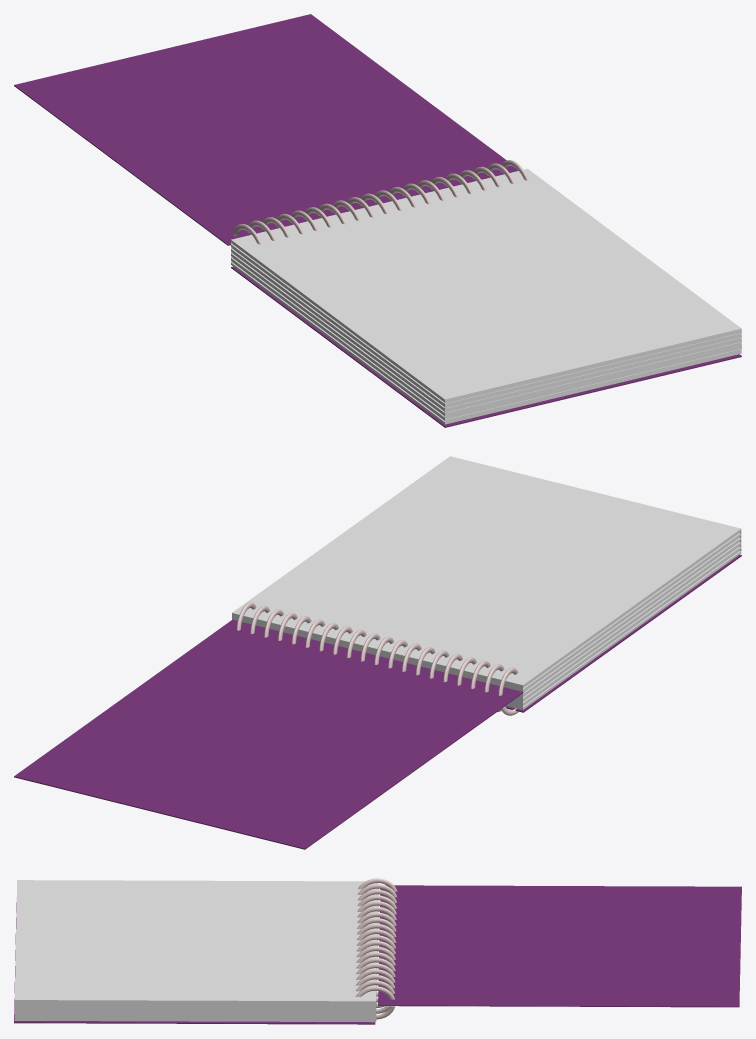
The model's file is drawingBook.glb.
The picture shows the model from 3 angles, top to bottom: view 1: azimuth 30°, elevation 25°; view 2: azimuth 150°, elevation 25°; view 3: azimuth 270°, elevation 25°; orthographic projection. The views are drawn at different scales.
Visible parts, largest first — view 1: Cube.001, Cube.002, Circle, Cube; view 2: Cube.001, Cube.002, Circle, Cube; view 3: Cube.001, Cube.002, Circle, Cube.
Boxes of the visible parts, x1,y1,x2,y2 form: Cube.001: (231, 168, 741, 424); Cube.002: (14, 14, 518, 245); Circle: (232, 160, 528, 244); Cube: (231, 266, 741, 427); Cube.001: (232, 456, 741, 709); Cube.002: (14, 619, 523, 849); Circle: (236, 602, 518, 715); Cube: (505, 554, 741, 712); Cube.001: (14, 880, 378, 1022); Cube.002: (378, 885, 741, 1007); Circle: (355, 878, 397, 1019); Cube: (14, 902, 375, 1024).
Size of the model in its own units: 1.17 by 0.161 by 2.96.
Materials: 7 (2 with a texture image).
